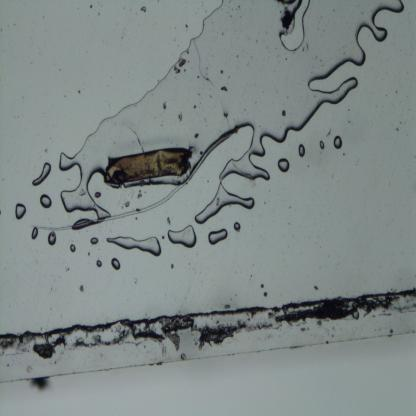Air bubble: (59, 0, 221, 215), (270, 0, 405, 140), (217, 122, 278, 182), (194, 182, 257, 226), (279, 0, 311, 54), (105, 236, 162, 257), (165, 224, 198, 250), (30, 161, 52, 187), (207, 226, 229, 247), (16, 202, 28, 220), (278, 158, 292, 172), (40, 194, 52, 210), (48, 230, 58, 248), (333, 134, 344, 150), (110, 257, 122, 271), (297, 142, 306, 158), (89, 236, 99, 246), (318, 138, 326, 150), (32, 226, 38, 242), (232, 221, 241, 231), (93, 192, 101, 200), (70, 244, 76, 253), (97, 260, 102, 267)
Background material: (103, 137, 189, 192), (174, 57, 190, 76), (76, 281, 85, 293), (279, 106, 288, 117), (140, 4, 148, 16), (160, 98, 167, 111), (219, 83, 229, 91), (164, 216, 172, 225), (176, 112, 183, 122), (312, 284, 318, 292), (223, 110, 229, 118), (136, 193, 144, 199), (260, 282, 265, 290), (262, 291, 270, 296), (192, 102, 197, 110), (125, 202, 130, 209), (194, 133, 199, 139), (88, 4, 93, 9), (227, 303, 230, 310), (136, 208, 140, 212)
Edge of slide: (0, 283, 416, 414)
Microfibre: (38, 127, 231, 233)
